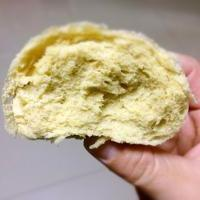biodegradable: (1, 20, 192, 146)
